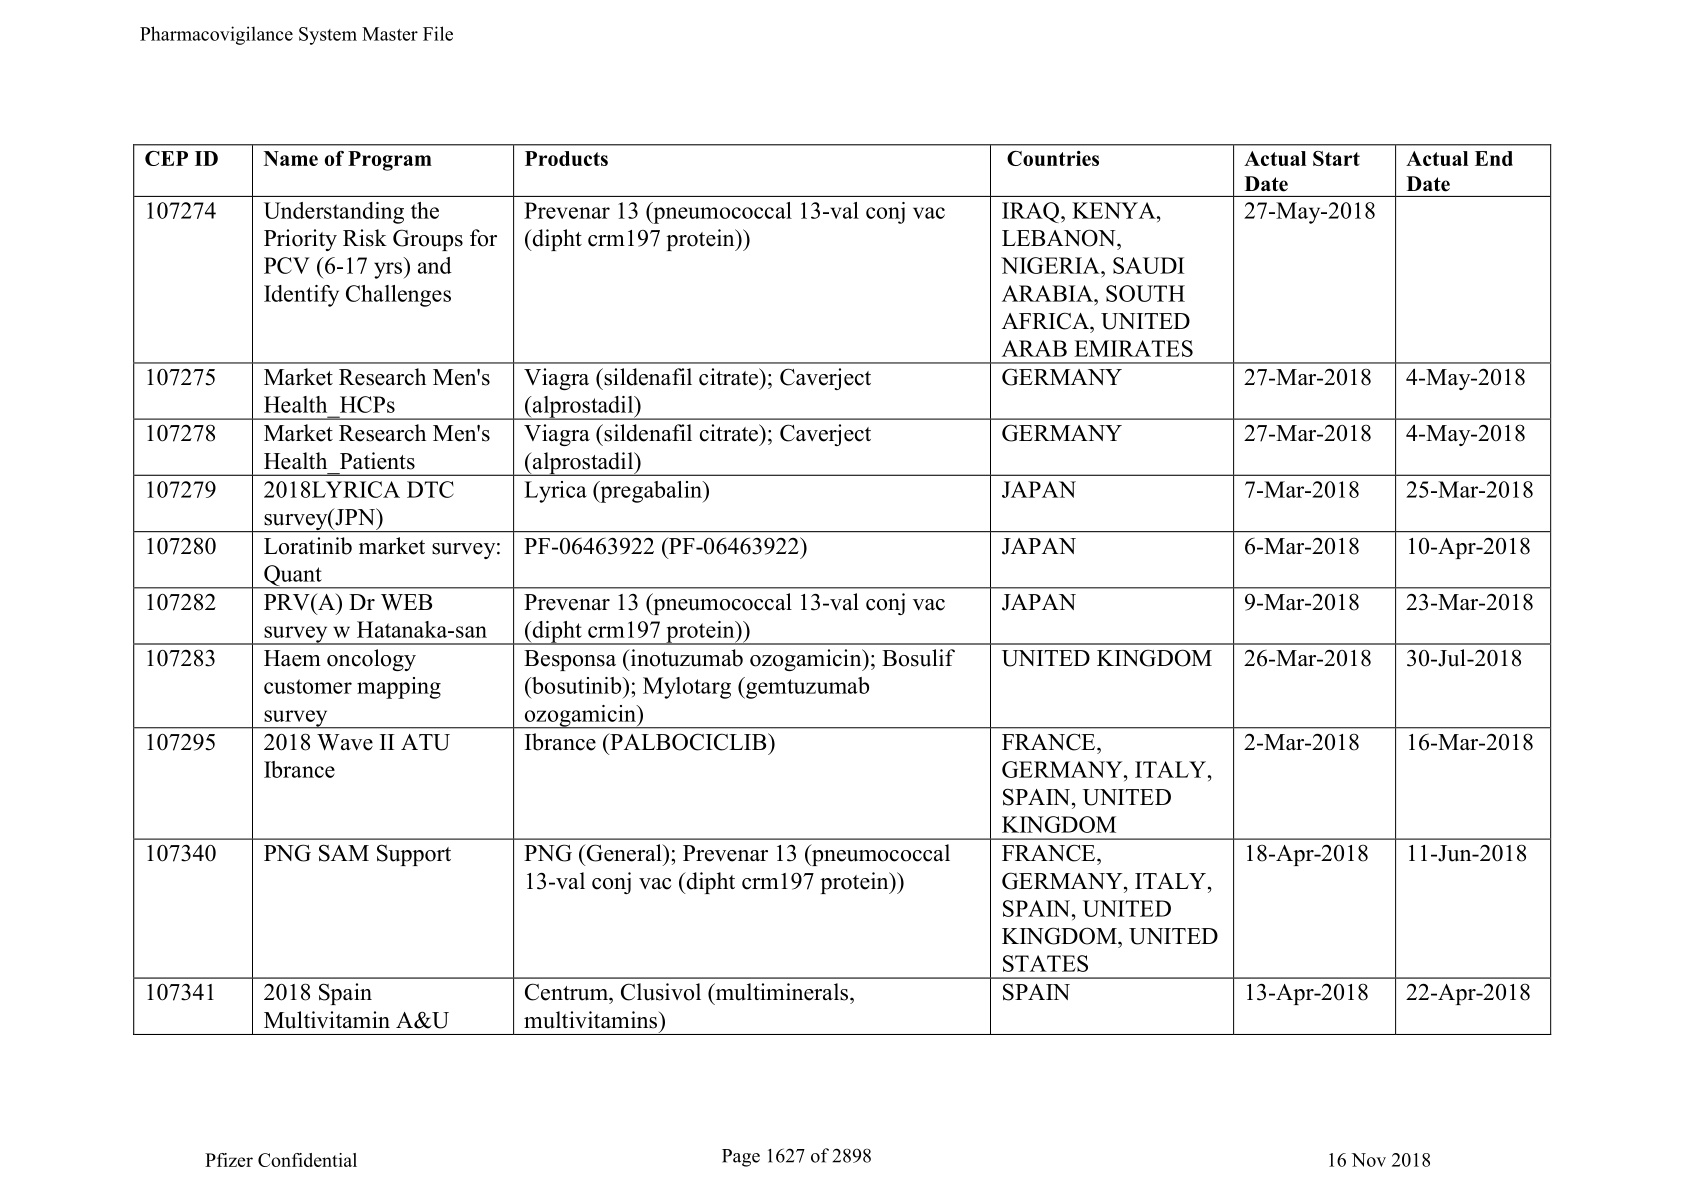full_lined: (128, 137, 1557, 1041)
